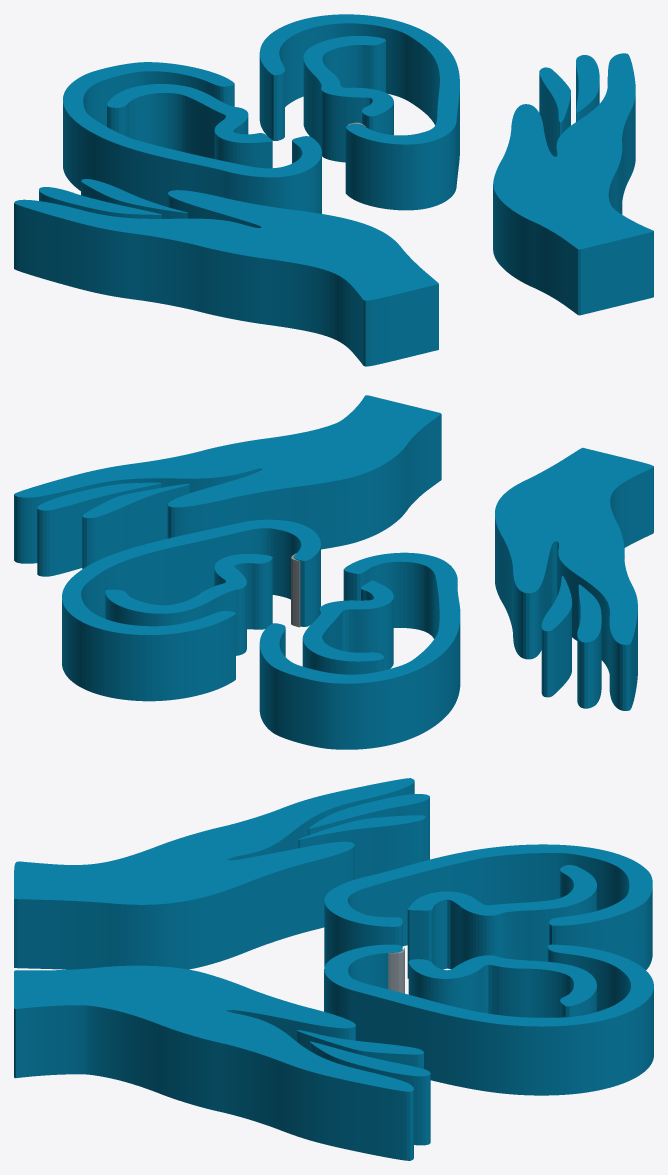
The picture shows the model from 3 angles, top to bottom: view 1: azimuth 30°, elevation 25°; view 2: azimuth 150°, elevation 25°; view 3: azimuth 270°, elevation 25°; orthographic projection. The views are drawn at different scales.
Visible parts, largest first — view 1: imagetostl_mesh; view 2: imagetostl_mesh; view 3: imagetostl_mesh.
Boxes of the visible parts, x1,y1,x2,y2 form: imagetostl_mesh: [14, 14, 653, 366]; imagetostl_mesh: [14, 395, 653, 749]; imagetostl_mesh: [14, 778, 653, 1160].
Size of the model in its own units: 9745 by 1000 by 8399.
